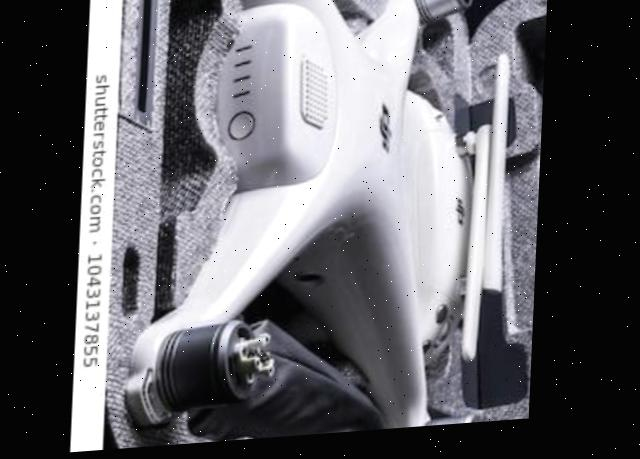drone: (113, 0, 544, 451)
